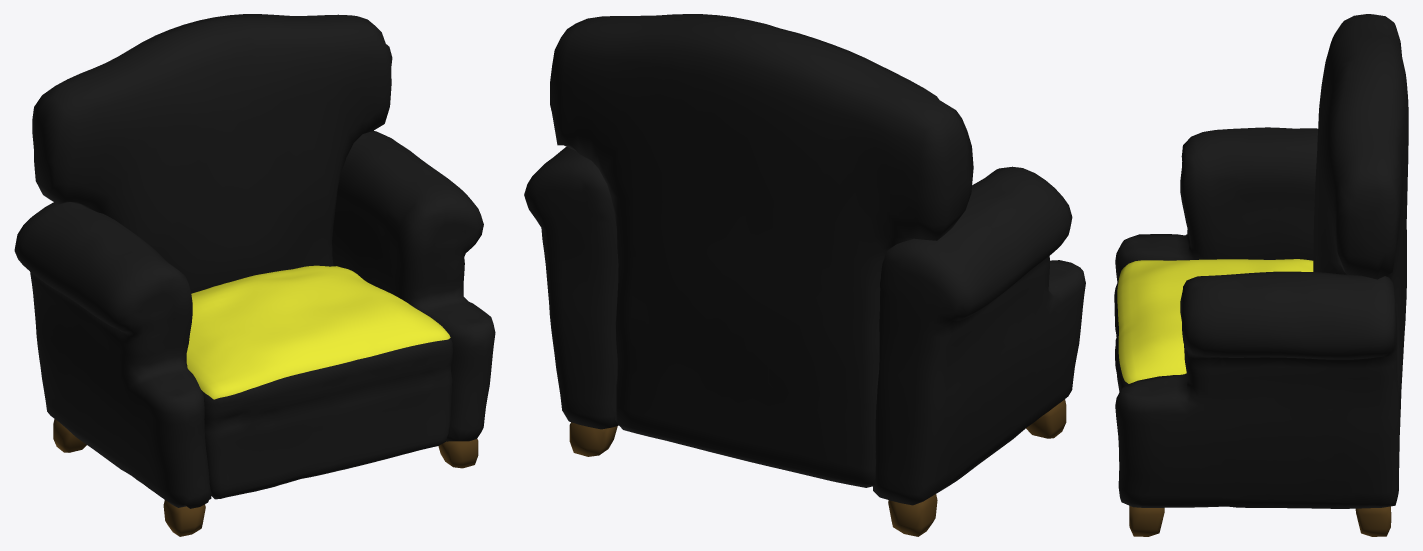
File: compressed_Armchair.glb
The picture shows the model from 3 angles, left to right: view 1: azimuth 30°, elevation 25°; view 2: azimuth 150°, elevation 25°; view 3: azimuth 270°, elevation 25°; orthographic projection. The views are drawn at different scales.
Visible parts, largest first — view 1: back_low, side_low, bottom_low, legs; view 2: back_low, side_low, legs; view 3: side_low, back_low, bottom_low, legs.
Part boxes in pixels (x1,y1,x2,y2): back_low: [32, 14, 392, 293]; side_low: [14, 130, 495, 508]; bottom_low: [186, 265, 452, 499]; legs: [53, 419, 478, 536]; back_low: [550, 14, 973, 487]; side_low: [524, 146, 1085, 505]; legs: [569, 399, 1066, 536]; side_low: [1115, 127, 1399, 508]; back_low: [1313, 14, 1408, 434]; bottom_low: [1114, 259, 1313, 391]; legs: [1129, 506, 1391, 536].
Size of the model in its own units: 1.3 by 1.27 by 0.8383.
